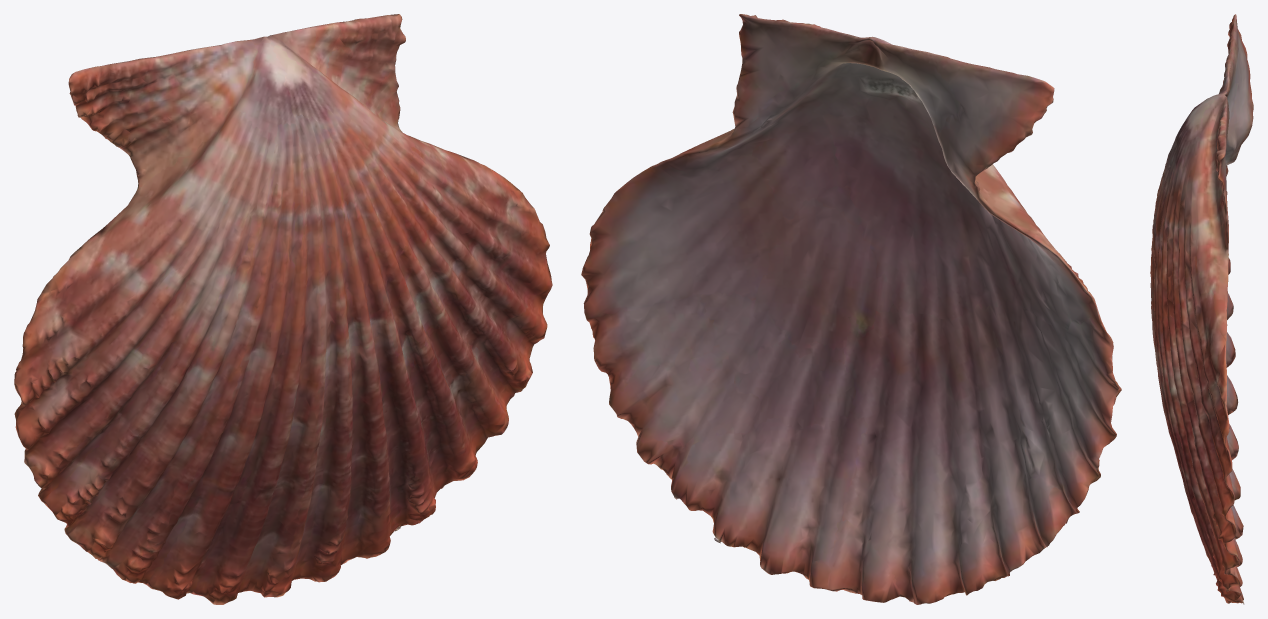
Rendered from mimachlamys-senatoria-crassicostata-5dbe459a.glb.
The picture shows the model from 3 angles, left to right: view 1: azimuth 30°, elevation 25°; view 2: azimuth 150°, elevation 25°; view 3: azimuth 270°, elevation 25°; orthographic projection. The views are drawn at different scales.
Parts seen in each view (by area): view 1: Mimachlamys_senatoria_crassicostata-150k; view 2: Mimachlamys_senatoria_crassicostata-150k; view 3: Mimachlamys_senatoria_crassicostata-150k.
Part boxes in pixels (left/top/right/bottom): Mimachlamys_senatoria_crassicostata-150k: left=14, top=14, right=552, bottom=604; Mimachlamys_senatoria_crassicostata-150k: left=581, top=14, right=1121, bottom=604; Mimachlamys_senatoria_crassicostata-150k: left=1150, top=14, right=1253, bottom=604.
Bounding box in the file's own units: 0.1009 × 0.1022 × 0.0199.
1 material, 1 textured.
